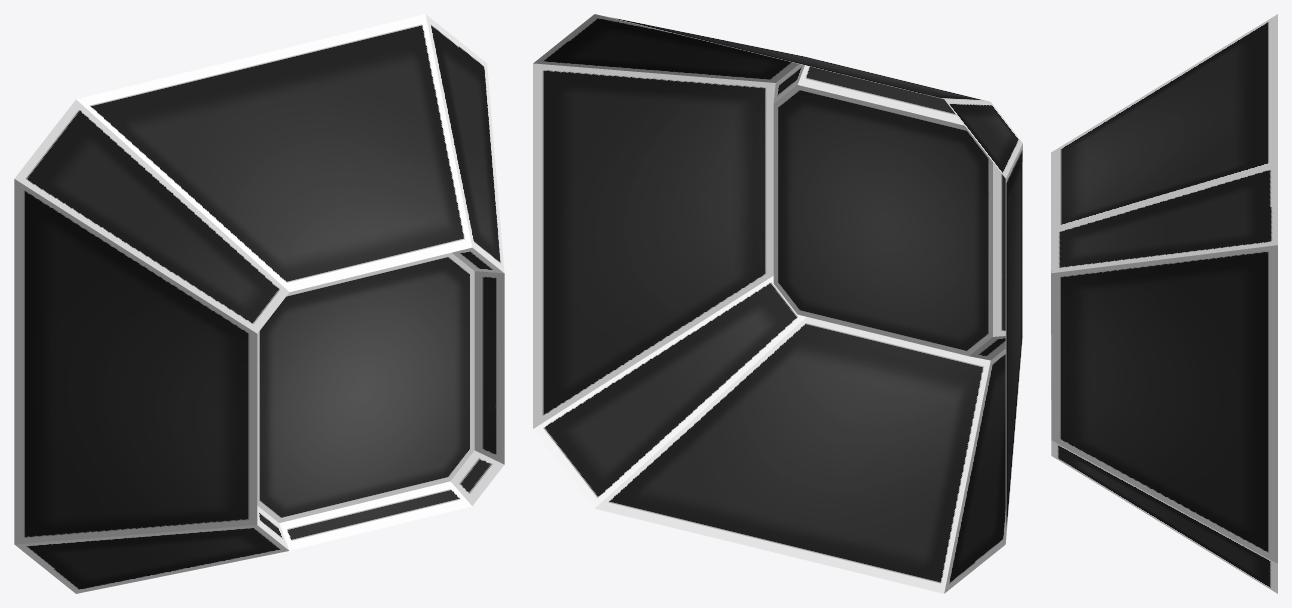
File: M_Stunt_Square_01.FBX
3 views of the same model, side by side, from view 1: azimuth 30°, elevation 25°; view 2: azimuth 150°, elevation 25°; view 3: azimuth 270°, elevation 25° (orthographic). The views are drawn at different scales.
Visible parts, largest first — view 1: M_Stunt_Square_01; view 2: M_Stunt_Square_01; view 3: M_Stunt_Square_01.
Part boxes in pixels (<box>): M_Stunt_Square_01: <box>14,14,504,593</box>; M_Stunt_Square_01: <box>533,14,1022,593</box>; M_Stunt_Square_01: <box>1051,14,1277,593</box>.
Bounding box in the file's own units: 14 × 14 × 6.67.
